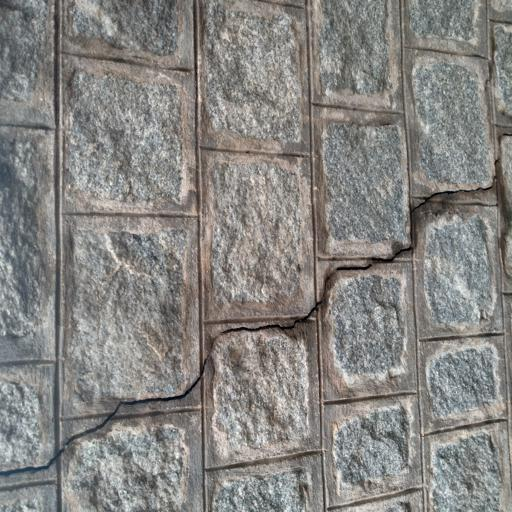major_crack: (0, 129, 505, 493)
